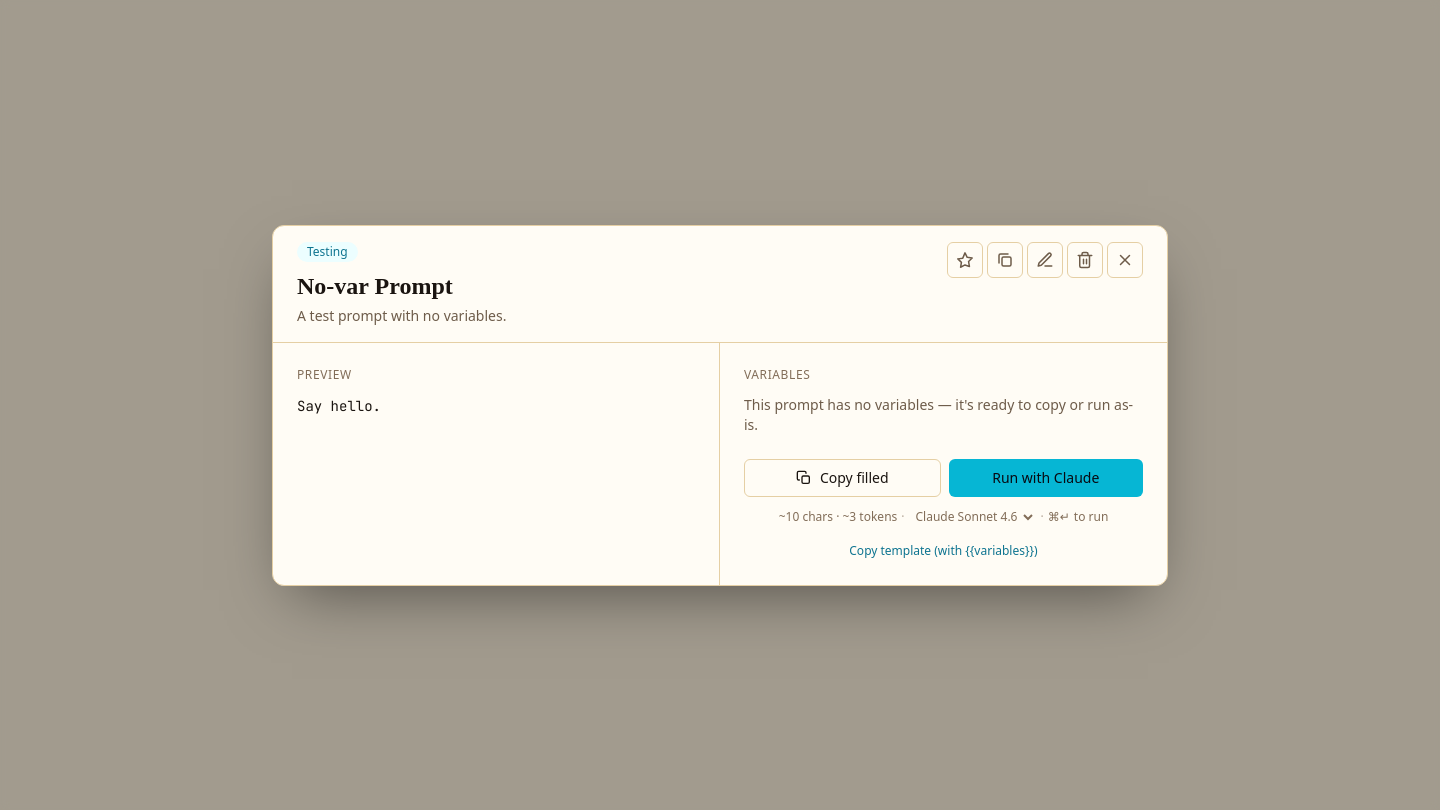
Test case: PromptDetail — F3d: response panel expand/collapse toggle › clicking Expand shows 'Collapse response'; clicking Collapse reverts
This screenshot has width=1440, height=810.
Step 1. Click the button "Run with Claude" → (1046, 478), box [948,458,1143,496]
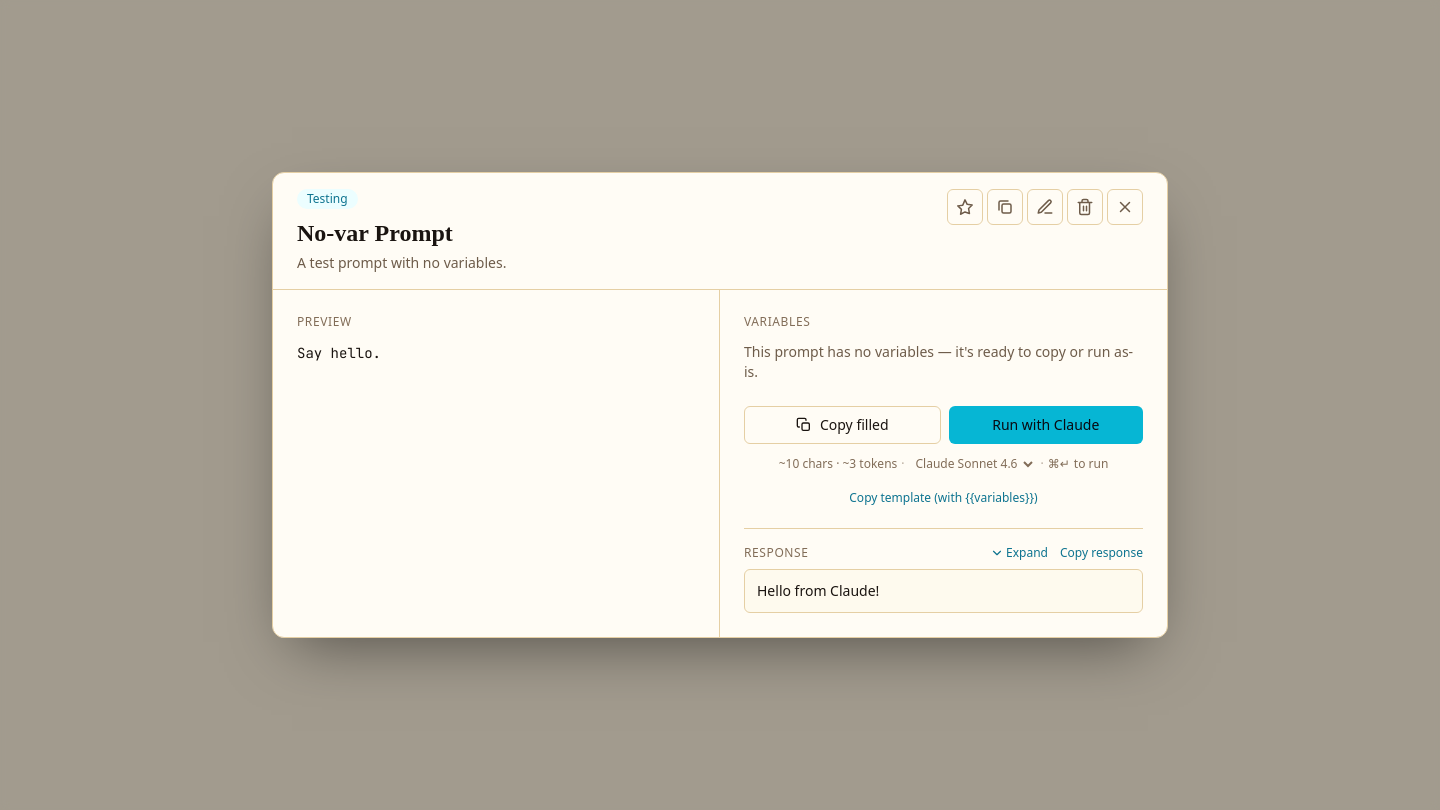
Expected: the button with aria-label "Expand response" is shown
Step 2. Click the button with aria-label "Expand response" → (1019, 553), box [990,545,1048,561]
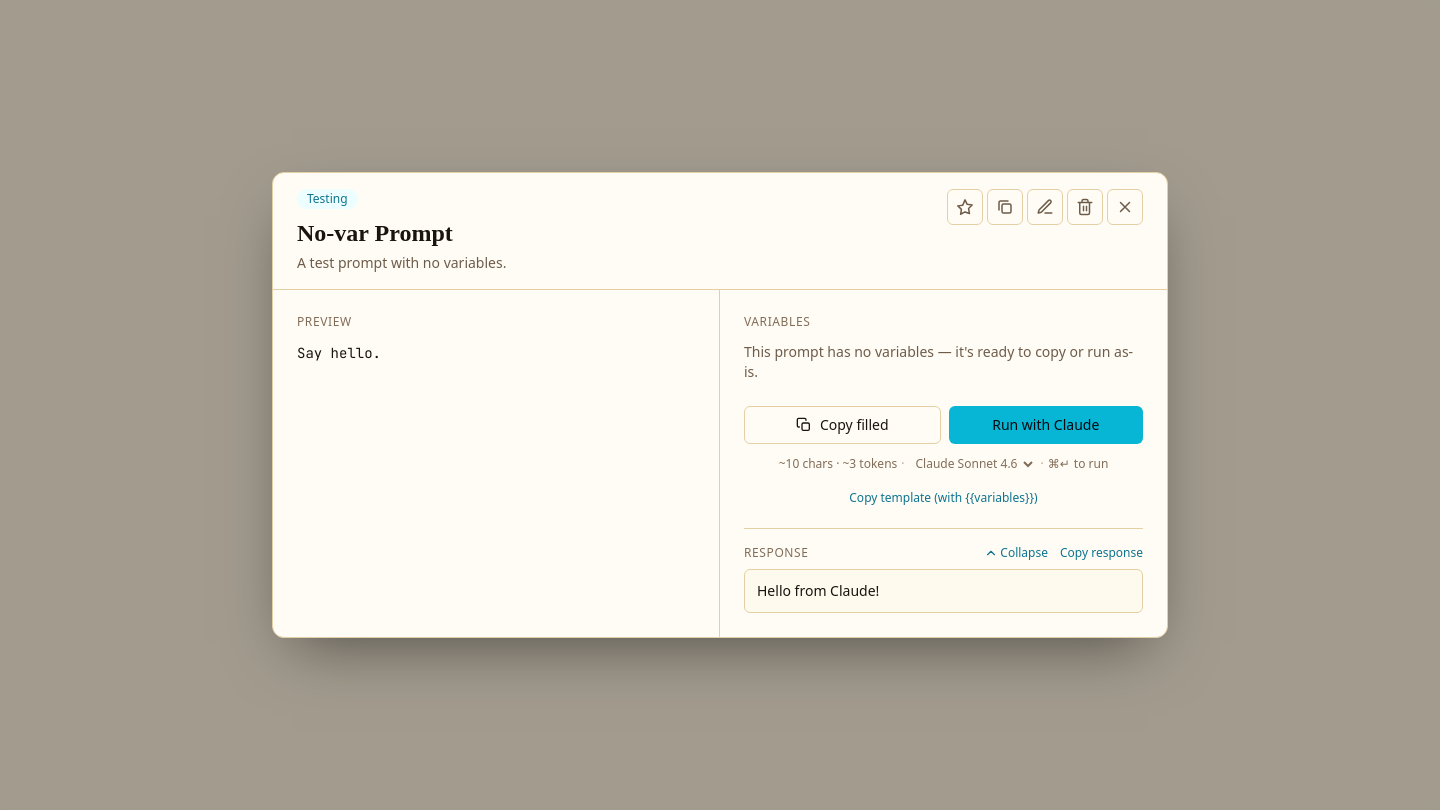
Expected: the button with aria-label "Collapse response" is shown
Step 3. Click the button with aria-label "Collapse response" → (1016, 553), box [984,545,1048,561]
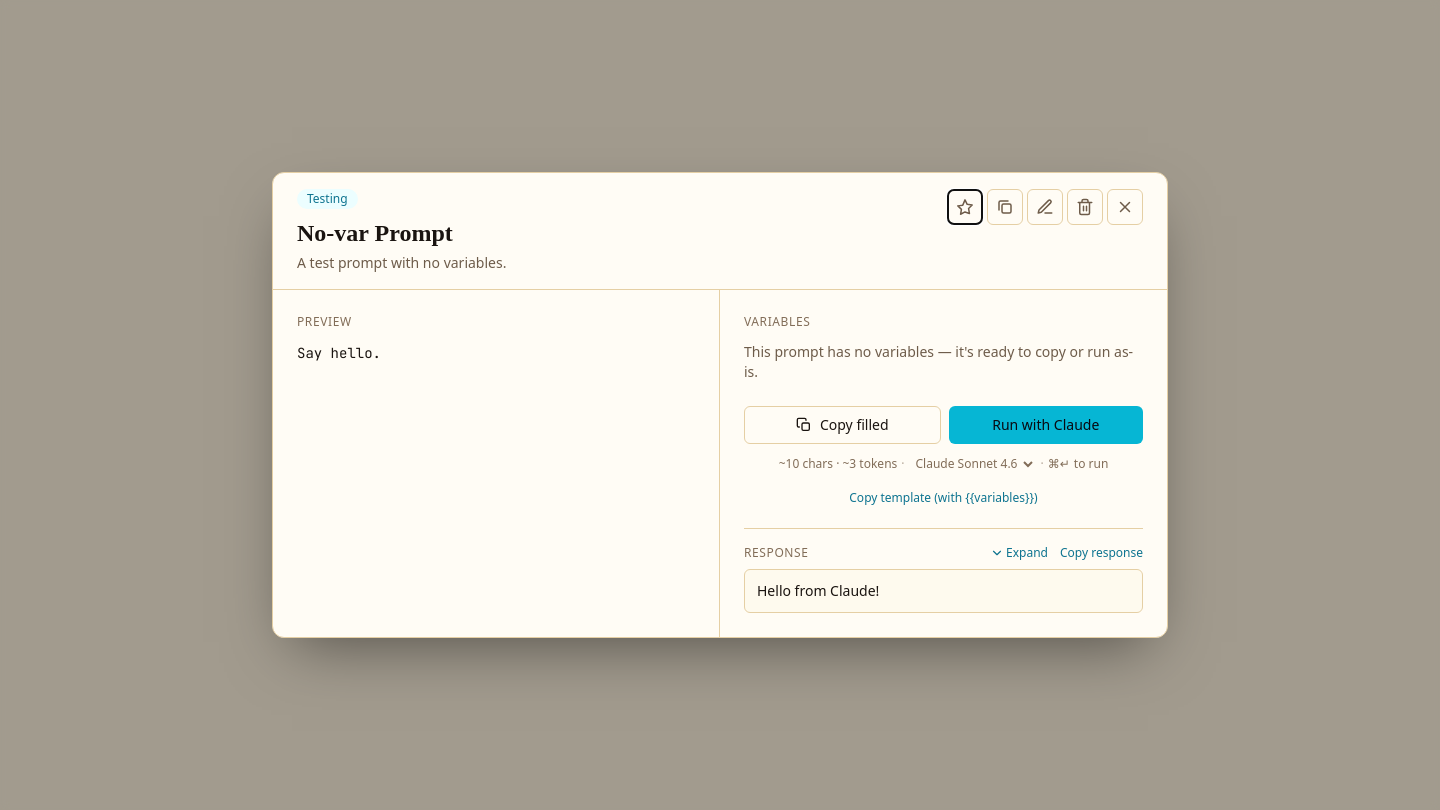
Expected: the button with aria-label "Expand response" is shown, [990,545,1048,561]
